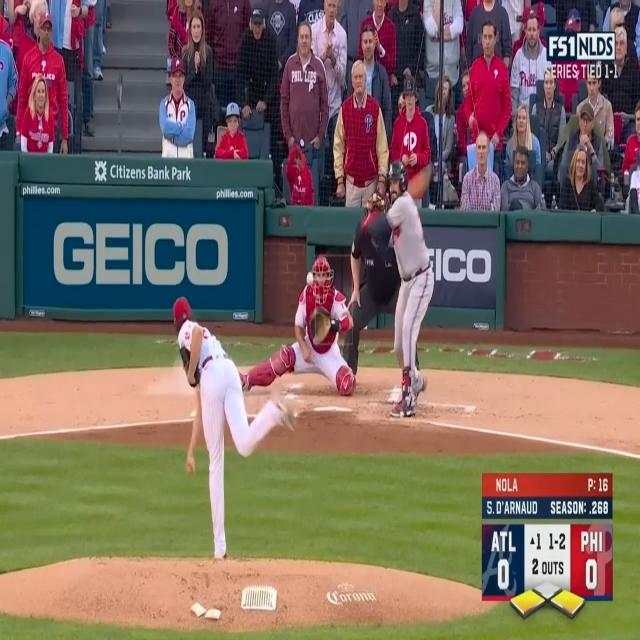baseball: (306, 270, 314, 286)
